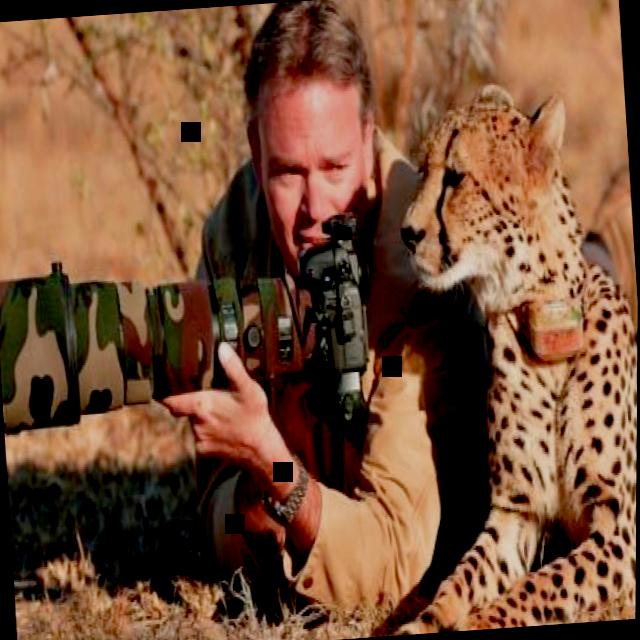Fall-Detected: (94, 0, 527, 640)
